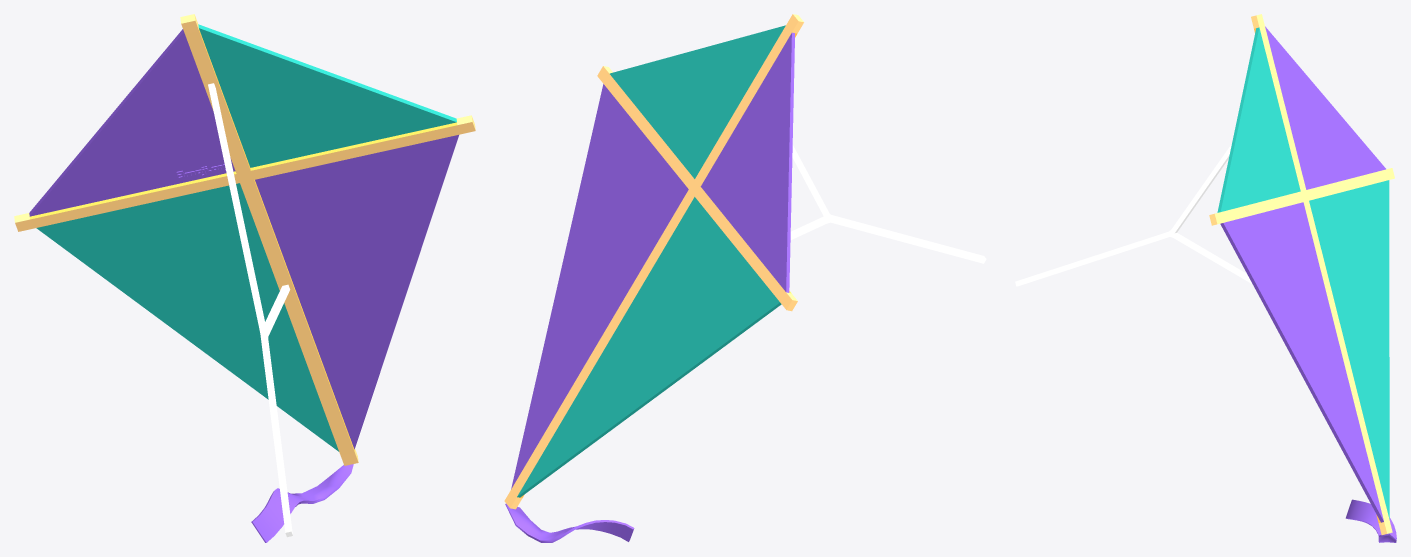
File: kite.gltf
3 views of the same model, side by side, from view 1: azimuth 30°, elevation 25°; view 2: azimuth 150°, elevation 25°; view 3: azimuth 270°, elevation 25° (orthographic). The views are drawn at different scales.
Visible parts, largest first — view 1: Plane.310; view 2: Plane.310; view 3: Plane.310.
Boxes of the visible parts, x1,y1,x2,y2 form: Plane.310: [14, 14, 475, 542]; Plane.310: [504, 14, 986, 542]; Plane.310: [1015, 14, 1396, 542].
Bounding box in the file's own units: 1.28 × 2.13 × 1.62.
1 material, 1 textured.
